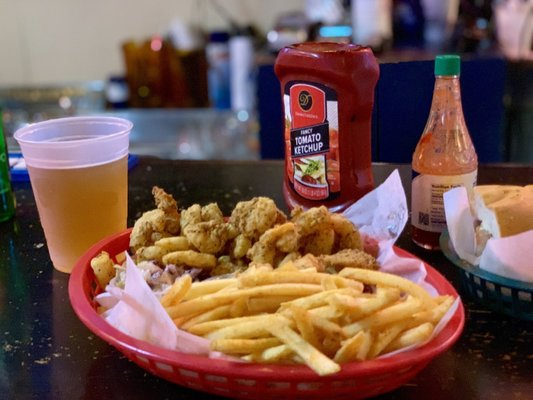pizza: (15, 115, 132, 275)
